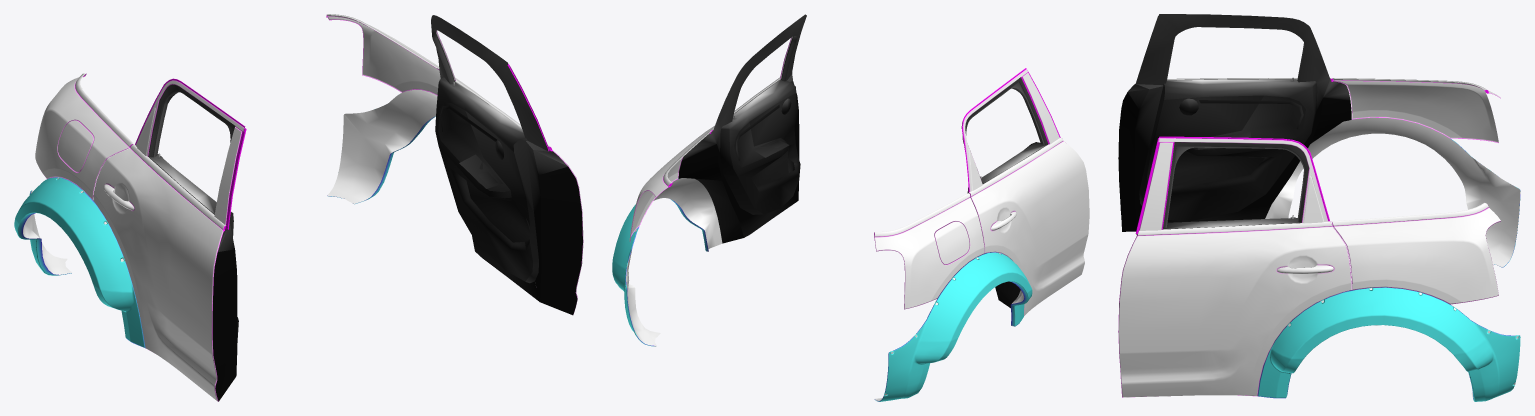
File: Car_Mini_CountrymanJCW_2017_FendersR_SetE_AltD.fbx
3 views of the same model, side by side, from view 1: azimuth 30°, elevation 25°; view 2: azimuth 150°, elevation 25°; view 3: azimuth 270°, elevation 25° (orthographic). The views are drawn at different scales.
Visible parts, largest first — view 1: FendersR 6; view 2: FendersR 6; view 3: FendersR 6.
Part boxes in pixels (x1,y1,x2,y2): FendersR 6: [14, 14, 583, 401]; FendersR 6: [612, 14, 1089, 401]; FendersR 6: [1118, 14, 1520, 401].
Size of the model in its own units: 2 by 1.21 by 1.74.
